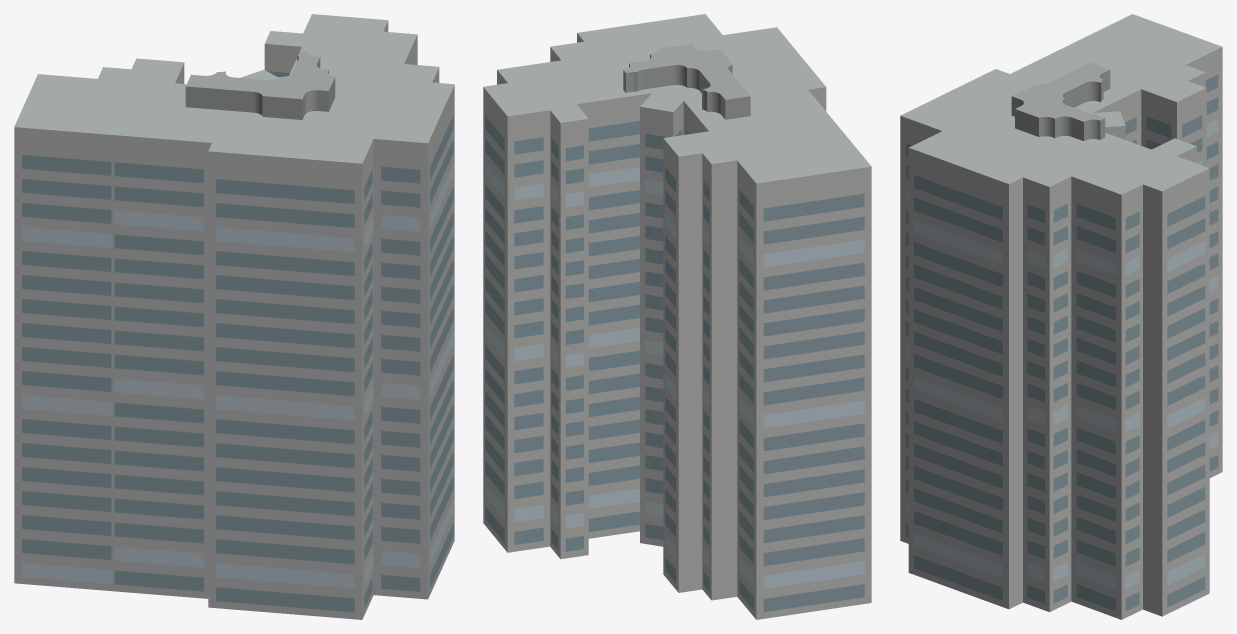
File: fallback-mapo-raemian-prugio-105.glb
3 renders of one model, left to right at view 1: azimuth 30°, elevation 25°; view 2: azimuth 150°, elevation 25°; view 3: azimuth 270°, elevation 25°, orthographic. The views are drawn at different scales.
Parts seen in each view (by area): view 1: fallback-mapo-raemian-prugio-105; view 2: fallback-mapo-raemian-prugio-105; view 3: fallback-mapo-raemian-prugio-105.
Boxes of the visible parts, bbox=[...] form: fallback-mapo-raemian-prugio-105: bbox=[14, 14, 454, 619]; fallback-mapo-raemian-prugio-105: bbox=[483, 14, 871, 619]; fallback-mapo-raemian-prugio-105: bbox=[900, 14, 1222, 619].
Size of the model in its own units: 47.97 by 55 by 36.15.
